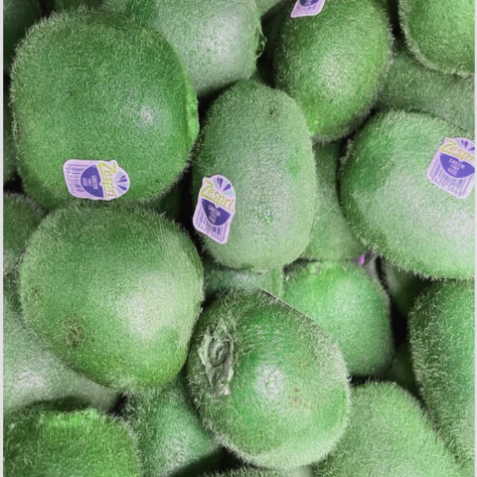kiwi: (6, 8, 214, 225), (15, 182, 223, 394), (153, 296, 378, 470), (186, 75, 337, 293), (339, 87, 477, 286)
